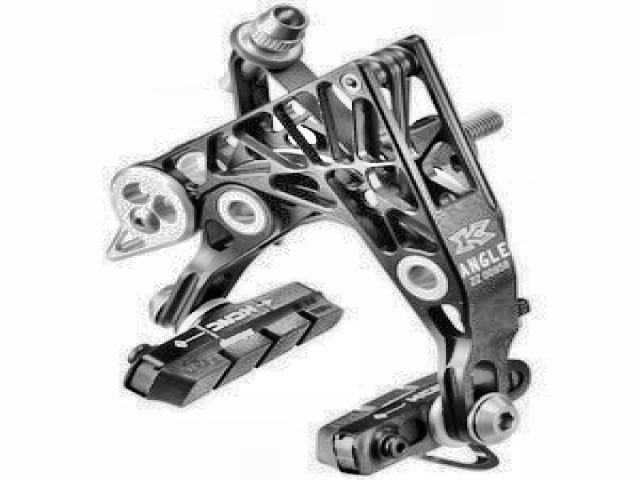rim_brake: (99, 2, 536, 476)
